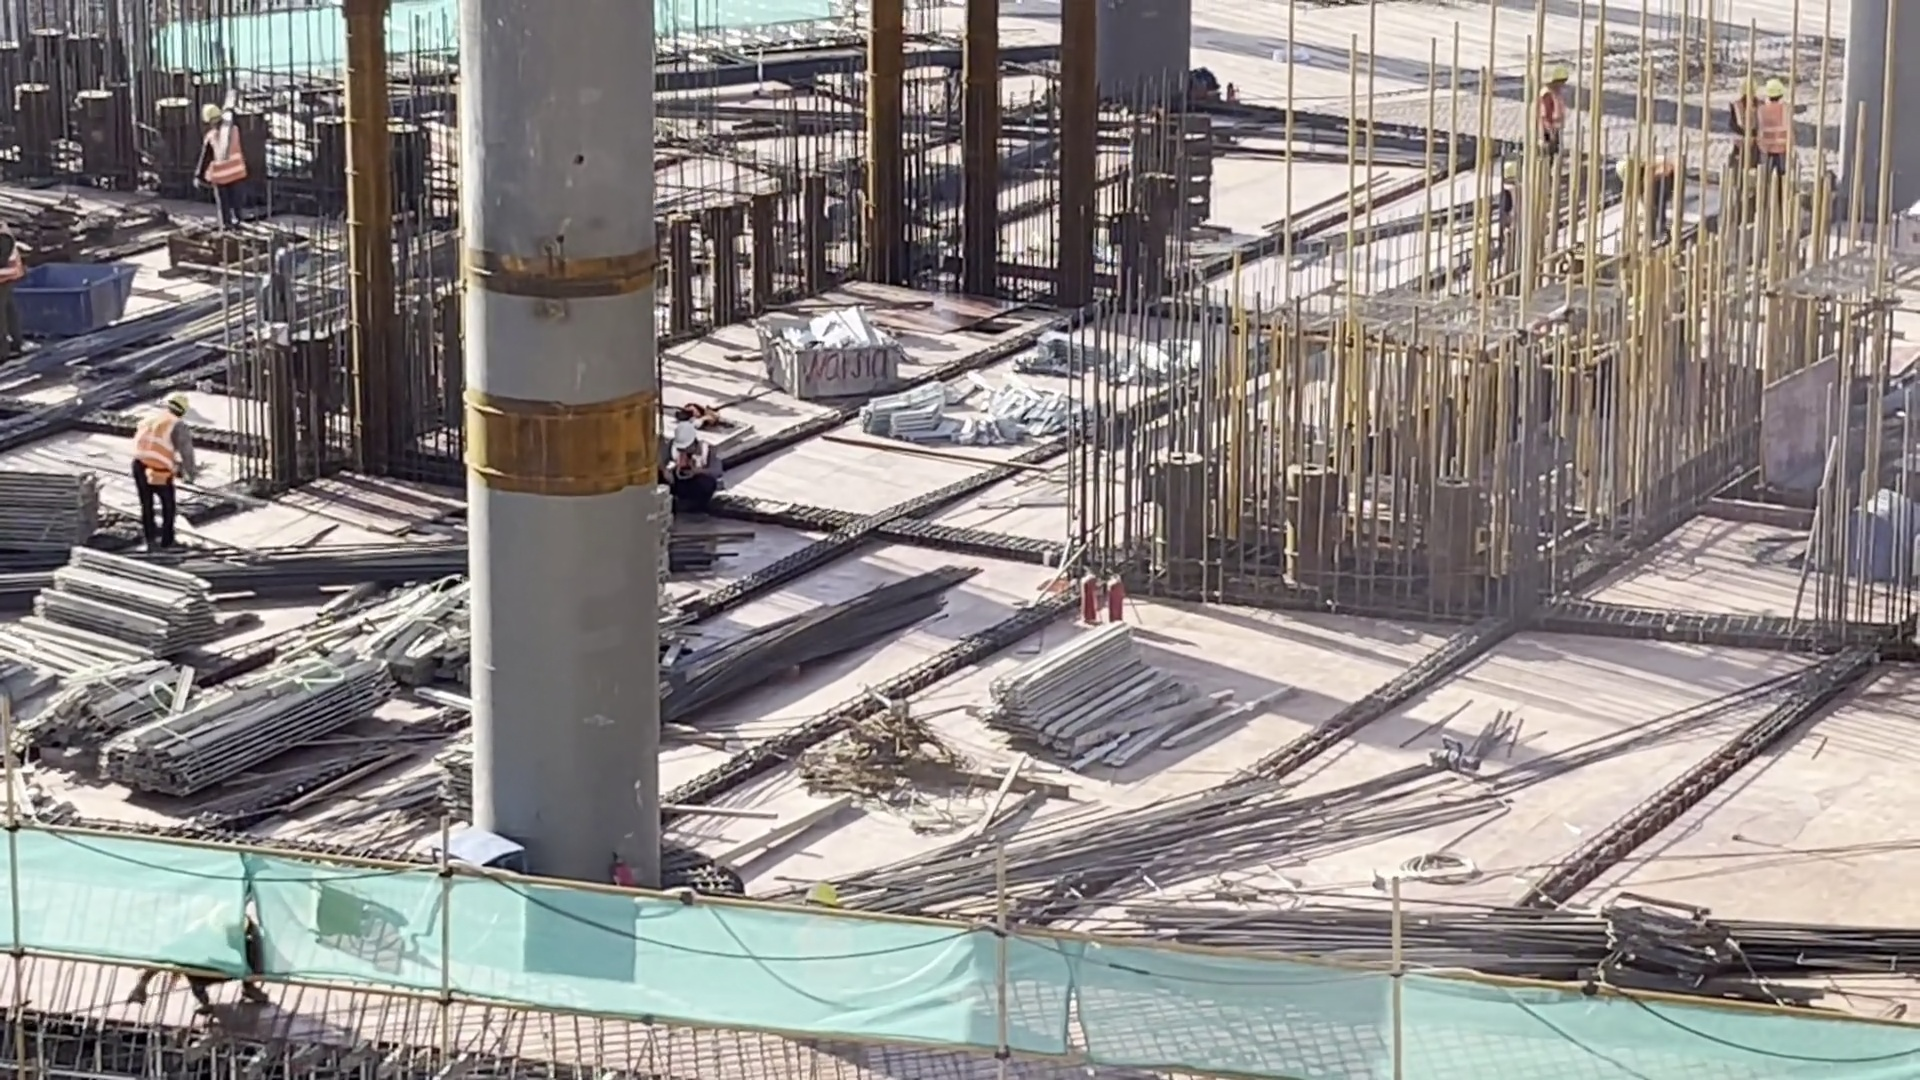helmet: (795, 869, 849, 916), (664, 411, 697, 449), (1543, 57, 1570, 87), (163, 393, 191, 412), (206, 104, 223, 123)
hopper: (752, 298, 906, 398), (3, 256, 138, 341)
person: (123, 379, 191, 535), (189, 89, 255, 234), (1744, 64, 1803, 194), (654, 412, 721, 505), (1533, 53, 1582, 176)
vest: (137, 417, 192, 496), (197, 116, 249, 193), (1751, 106, 1795, 154), (1536, 93, 1570, 131)
wood: (106, 657, 395, 800), (33, 530, 217, 672), (992, 609, 1169, 749), (1, 462, 99, 572)
